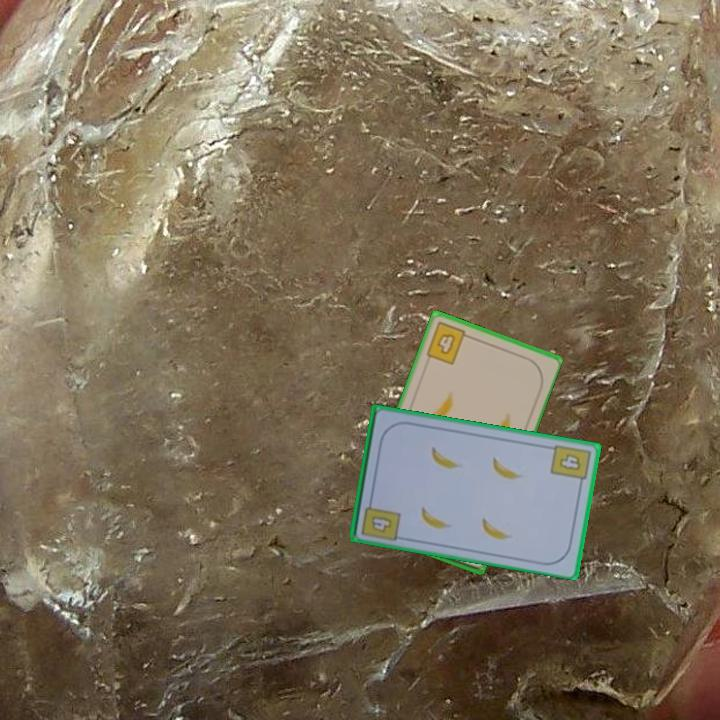4b: (422, 318, 475, 368), (547, 441, 593, 489), (358, 495, 403, 544)
